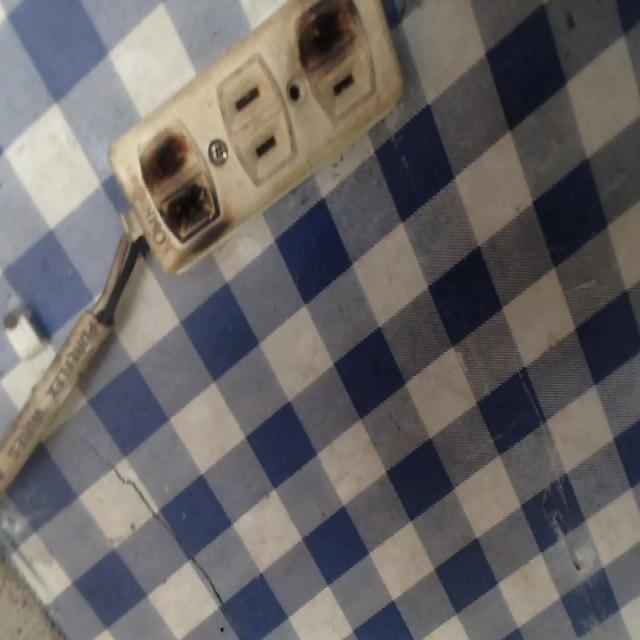-: (137, 117, 223, 245), (290, 0, 364, 79)
